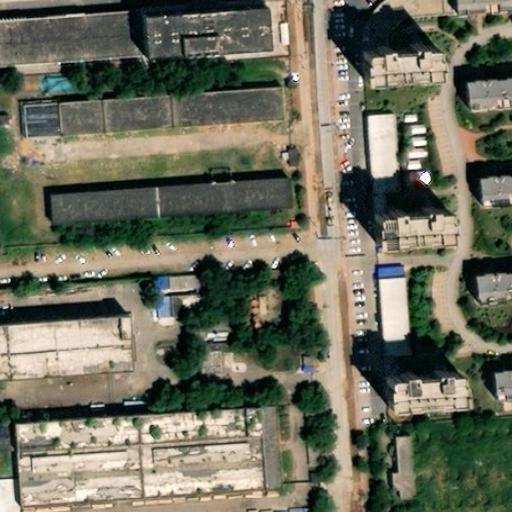building: (20, 412, 282, 512), (31, 111, 278, 152), (52, 202, 287, 242), (0, 319, 137, 383), (0, 35, 137, 85), (368, 5, 466, 67), (152, 28, 275, 70), (380, 272, 414, 373), (382, 389, 459, 428), (373, 226, 447, 265), (371, 100, 396, 210), (149, 269, 204, 317), (364, 64, 434, 101), (471, 80, 512, 113), (479, 273, 512, 306), (394, 468, 418, 512), (484, 176, 512, 213), (199, 337, 231, 366), (0, 471, 19, 511), (0, 432, 22, 463), (497, 374, 512, 403), (297, 350, 314, 370)
